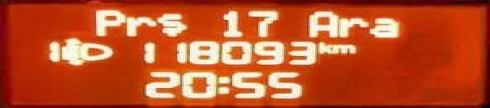0: (178, 71, 216, 98), (219, 39, 250, 64)
1: (217, 8, 241, 37), (140, 40, 156, 65), (44, 39, 60, 64), (172, 39, 186, 65)
2: (144, 69, 178, 99)
3: (286, 39, 315, 64)
5: (268, 70, 302, 98), (232, 71, 264, 98)
7: (246, 9, 279, 36)
8: (186, 39, 219, 64)
9: (251, 40, 284, 64)
X: (91, 6, 122, 36), (305, 10, 337, 36), (157, 12, 186, 37), (368, 16, 399, 37), (337, 16, 366, 37), (127, 14, 156, 35), (215, 74, 230, 94), (331, 43, 357, 54), (316, 40, 329, 53)
